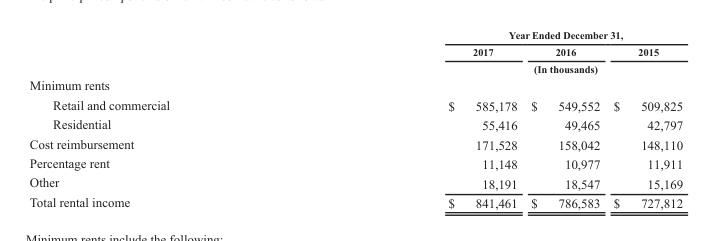table: (28, 29, 682, 209)
table column: (28, 29, 308, 209), (308, 29, 523, 209), (523, 29, 606, 209), (606, 29, 682, 209)
table column header: (28, 29, 682, 76)
table projected row header: (28, 76, 682, 94)
table row: (28, 94, 682, 114), (28, 114, 682, 134), (28, 172, 682, 192), (28, 134, 682, 153), (28, 153, 682, 172), (28, 76, 682, 94), (28, 59, 682, 76), (28, 192, 682, 209), (28, 43, 682, 59), (28, 29, 682, 43)
table spanning cell: (308, 59, 682, 76), (308, 29, 682, 43)
